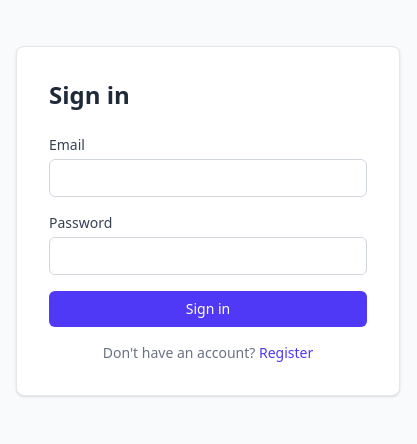
Test: LoginPage › shows "Login failed" fallback when server returns error with empty message
The width and height of the screenshot is (417, 444).
Type "user@example.com" into the field labelled "Email" at x=208, y=178, box 49,159 -> 367,197
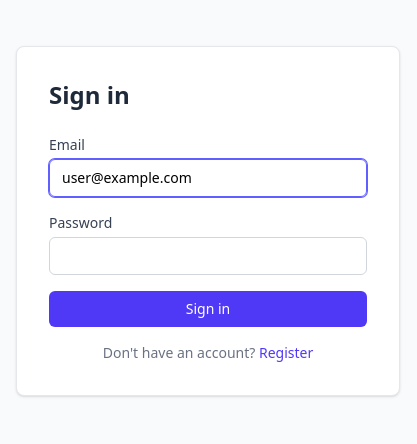
Type "wrongpassword" into the password field labelled "Password" at x=208, y=256, box 49,237 -> 367,275
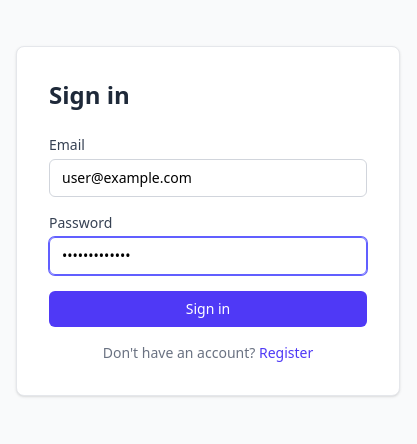
Click the button "Sign in" at x=208, y=309, box 49,291 -> 367,327
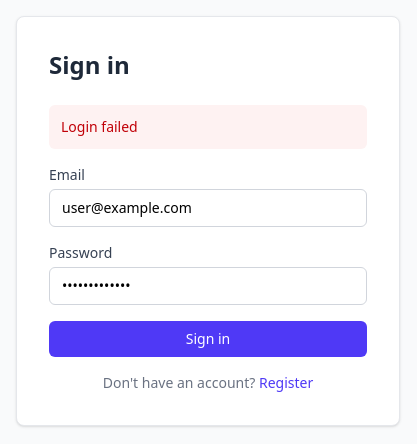
Check: the message reads "Login failed", box 61,117 -> 138,136
